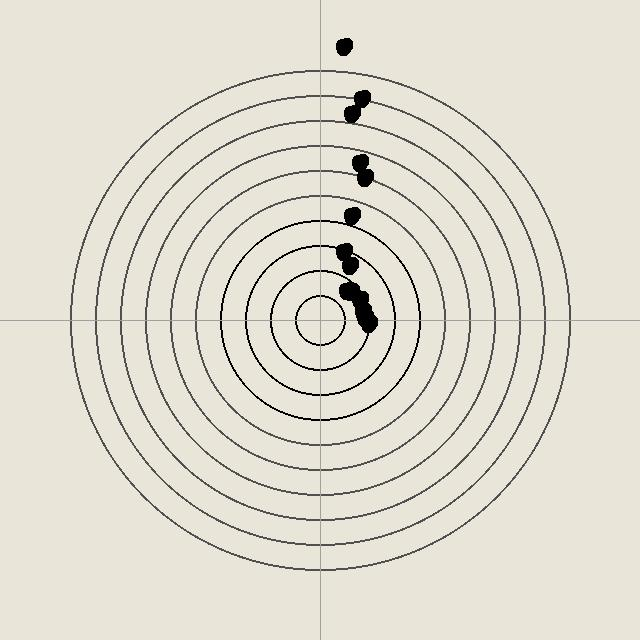vertical_scatter: (341, 103, 361, 123), (349, 152, 369, 172), (358, 313, 378, 333), (352, 301, 372, 321), (340, 281, 360, 301), (354, 167, 374, 187), (333, 241, 353, 261), (351, 88, 371, 108), (349, 289, 369, 309), (354, 307, 374, 327), (339, 255, 359, 275), (336, 280, 356, 300), (333, 36, 353, 56), (341, 205, 361, 225)
